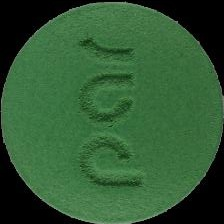49884-056: (0, 0, 224, 224)
